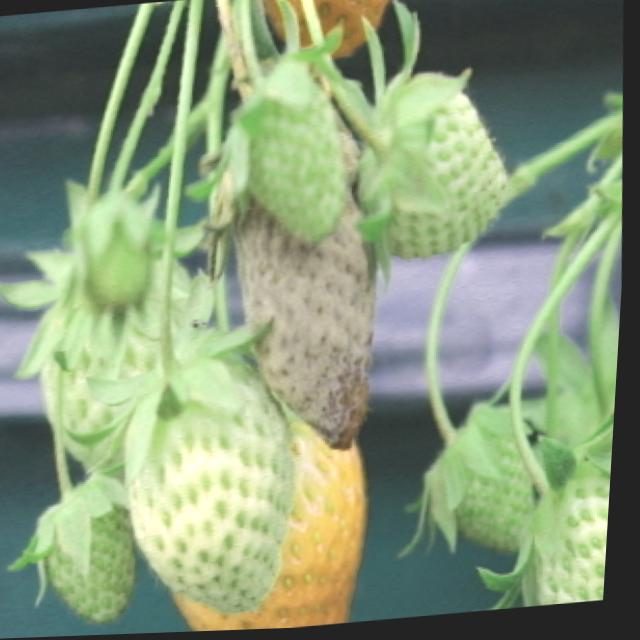Gray Mold: (232, 91, 383, 456)
